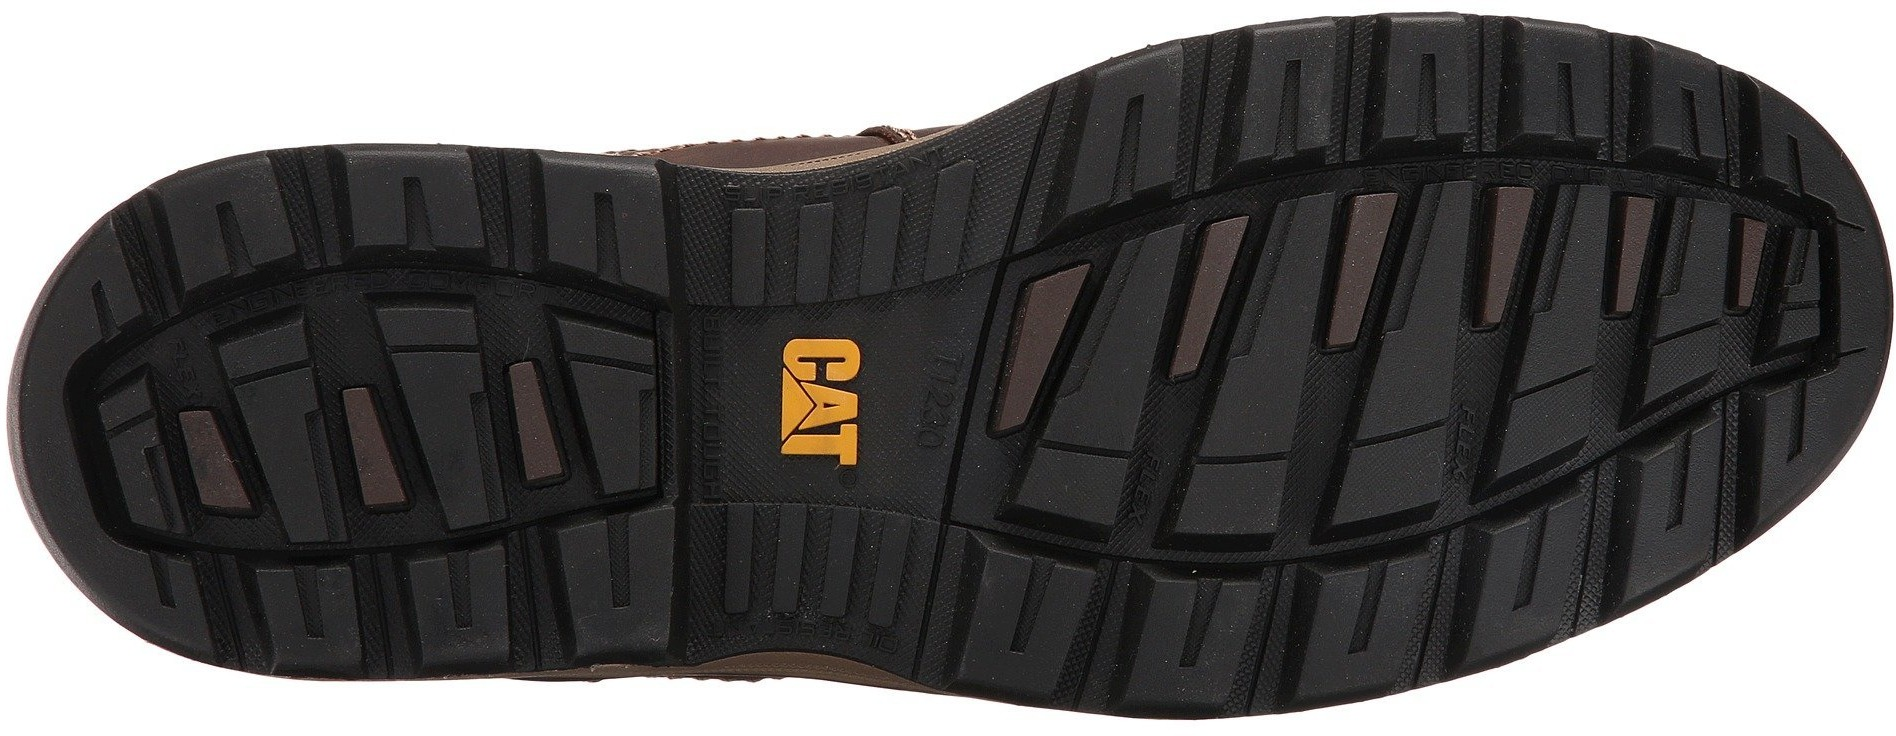quad: (1027, 413, 1290, 613), (1341, 392, 1559, 609)
text: (747, 328, 940, 475)
